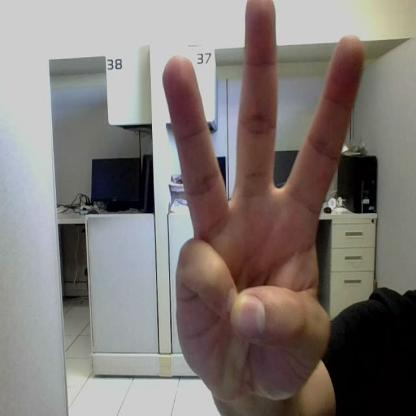W: (162, 1, 365, 398)
